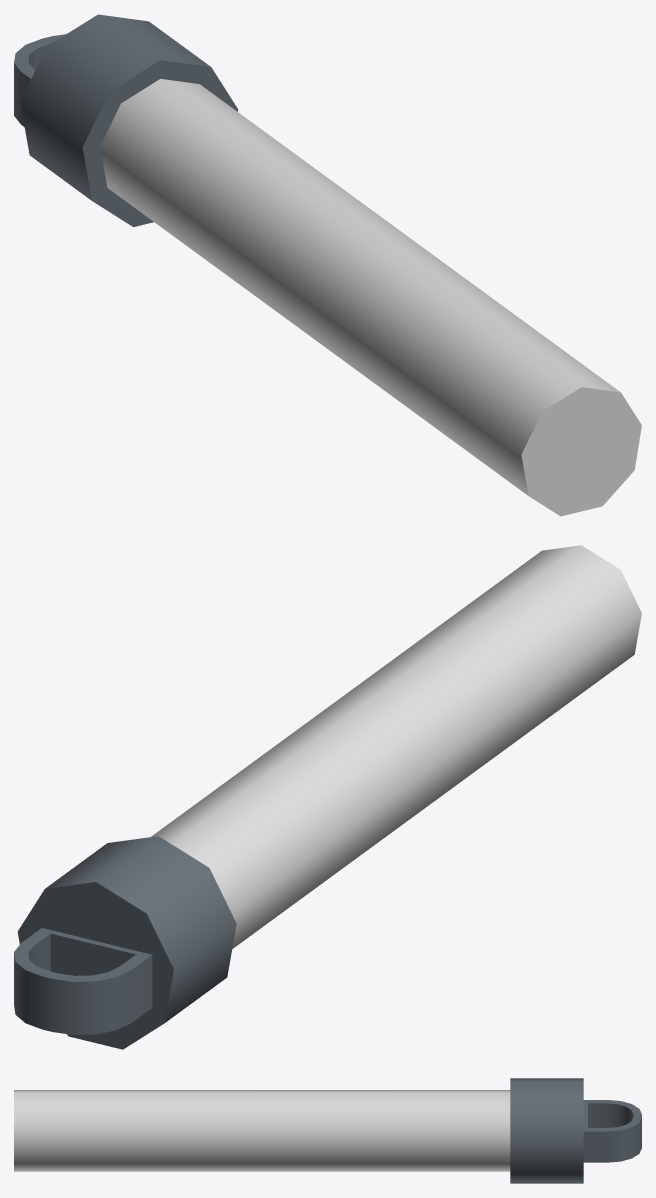
Rendered from TestTube.fbx.
3 views of the same model, one above another, from view 1: azimuth 30°, elevation 25°; view 2: azimuth 150°, elevation 25°; view 3: azimuth 270°, elevation 25° (orthographic). The views are drawn at different scales.
Parts seen in each view (by area): view 1: Cube.087; view 2: Cube.087; view 3: Cube.087.
Boxes of the visible parts, x1,y1,x2,y2 form: Cube.087: (14,14,641,516); Cube.087: (14,545,641,1049); Cube.087: (14,1078,641,1183).
Bounding box in the file's own units: 7.81 × 7.69 × 46.31.
